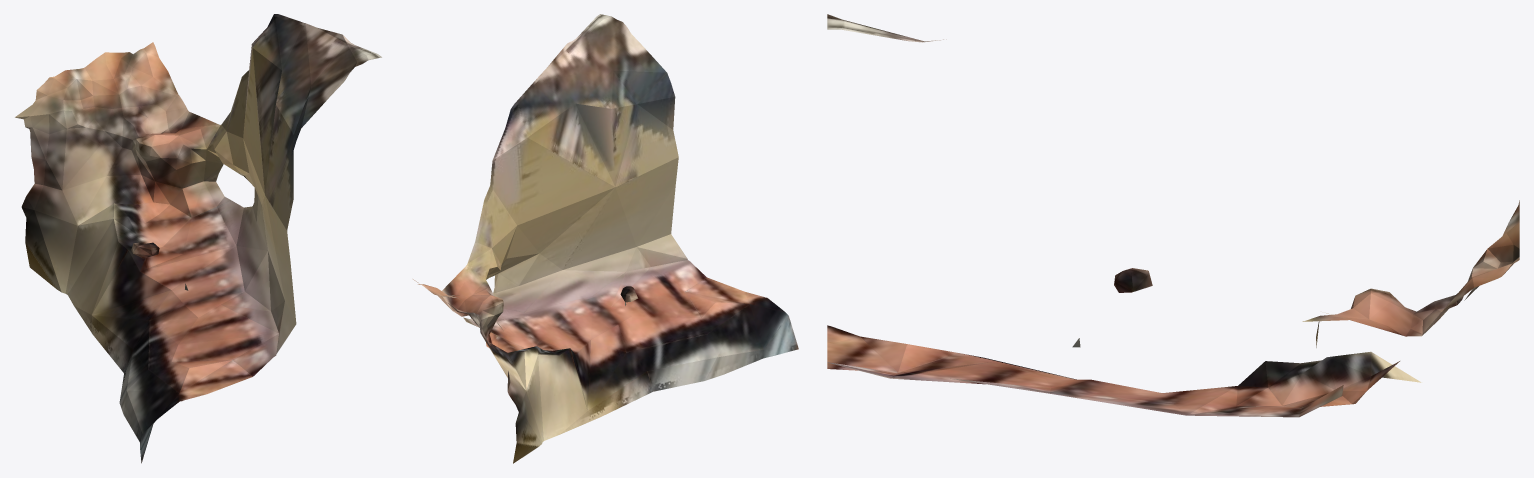
3 views of the same model, side by side, from view 1: azimuth 30°, elevation 25°; view 2: azimuth 150°, elevation 25°; view 3: azimuth 270°, elevation 25° (orthographic). The views are drawn at different scales.
Bounding box in the file's own units: 1.02 × 1.4 × 1.67.
Materials: 2 (2 with a texture image).
